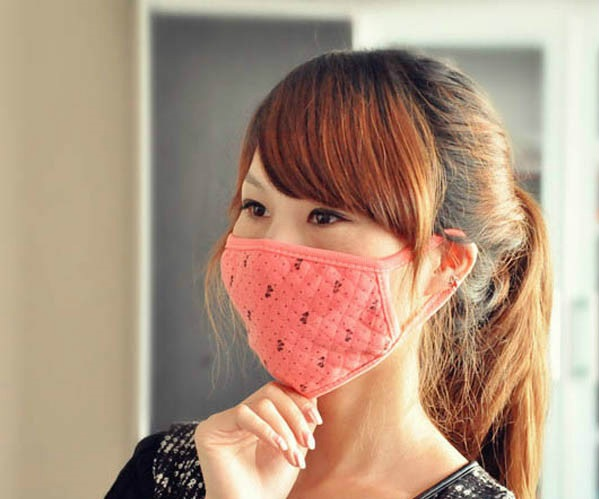face_mask: (224, 120, 424, 398)
